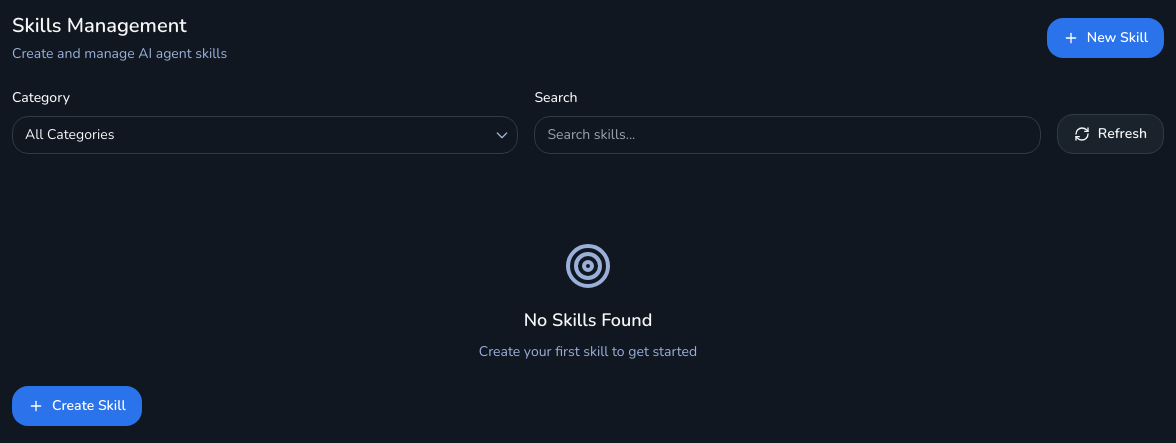
it: SkillsTab › Empty State › should show filter hint when filtered with no results
In the field with placeholder "Search skills...": (788, 135) [534,116,1041,154], type "nonexistent"
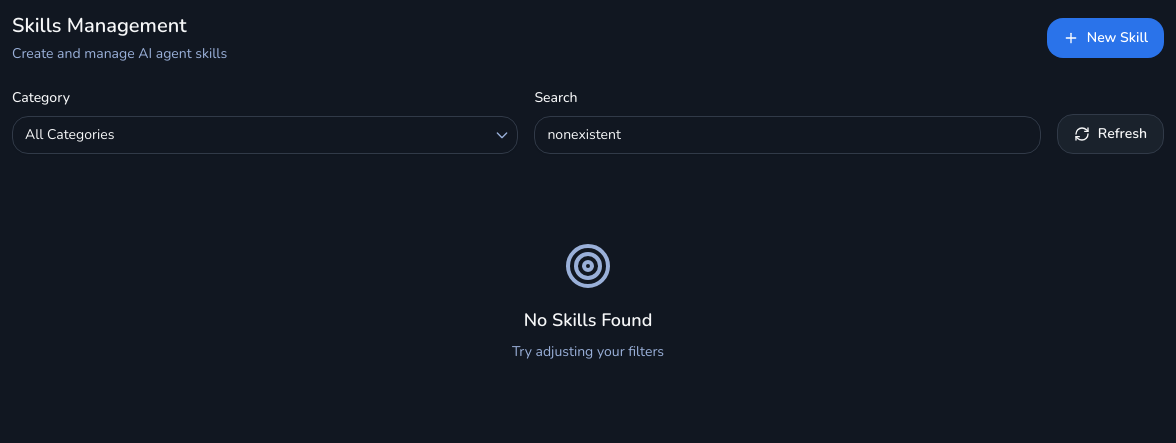
Result: the text "Try adjusting your filters" is shown at [512,342,664,361]
